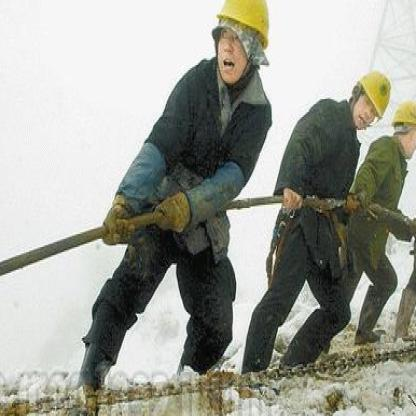helmet: (209, 0, 278, 102), (347, 63, 397, 135), (389, 98, 416, 158)
